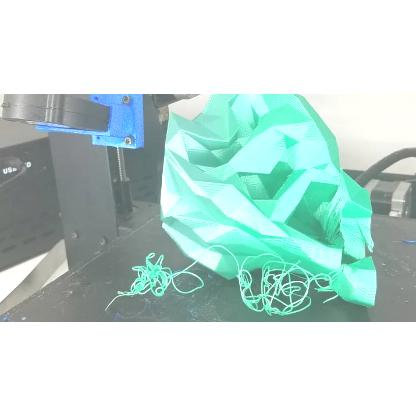fail: (235, 247, 333, 319), (106, 242, 202, 312)
